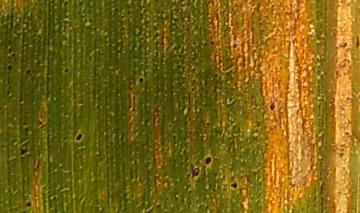tarspot: (201, 152, 215, 168), (72, 129, 86, 144), (265, 98, 278, 114), (226, 179, 242, 192), (21, 199, 37, 209), (228, 38, 239, 52), (18, 145, 29, 158), (60, 63, 71, 76), (3, 62, 15, 73), (136, 73, 146, 86), (207, 37, 217, 48), (22, 66, 32, 76)
